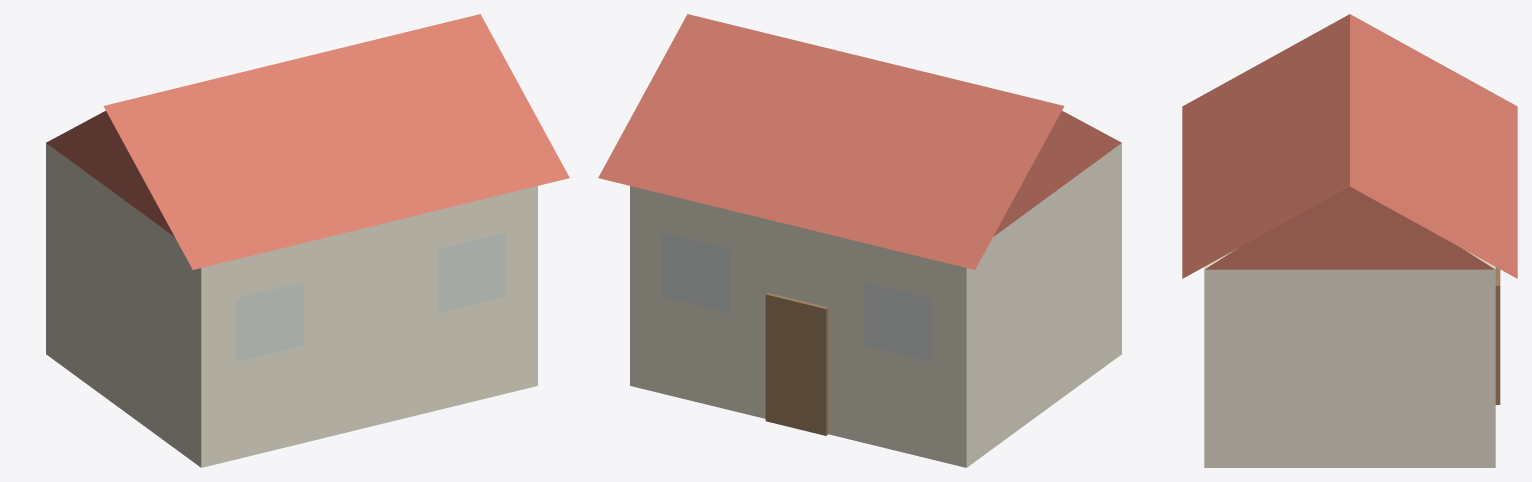
File: House.gltf
3 views of the same model, side by side, from view 1: azimuth 30°, elevation 25°; view 2: azimuth 150°, elevation 25°; view 3: azimuth 270°, elevation 25° (orthographic). The views are drawn at different scales.
Parts seen in each view (by area): view 1: Walls, Roof, Windows; view 2: Walls, Roof, Windows, Door; view 3: Roof, Walls, Door.
Part boxes in pixels (box(x1,y1,x2,y2)): Walls: box(46, 143, 537, 467); Roof: box(46, 14, 569, 269); Windows: box(236, 233, 505, 361); Walls: box(630, 143, 1121, 467); Roof: box(598, 14, 1121, 269); Windows: box(662, 233, 931, 361); Door: box(765, 293, 828, 435); Roof: box(1182, 14, 1517, 278); Walls: box(1204, 249, 1495, 467); Door: box(1495, 267, 1500, 404).
Bounding box in the file's own units: 5.6 × 4.4 × 4.6.
